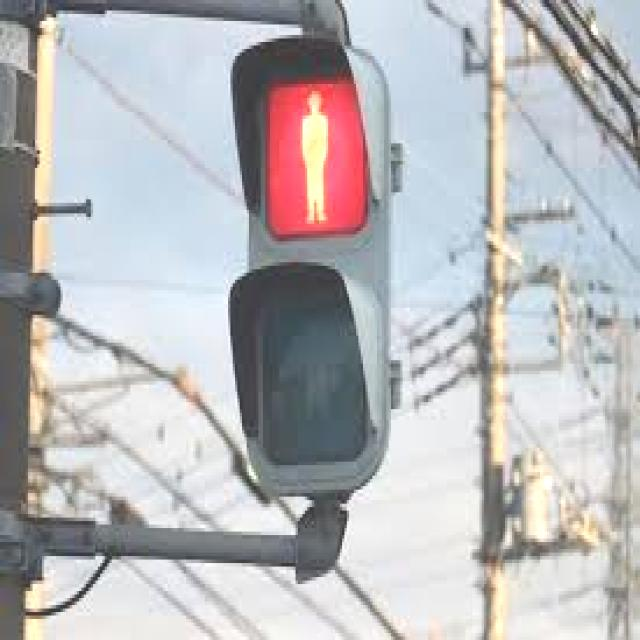trafficlight: (228, 46, 386, 493)
